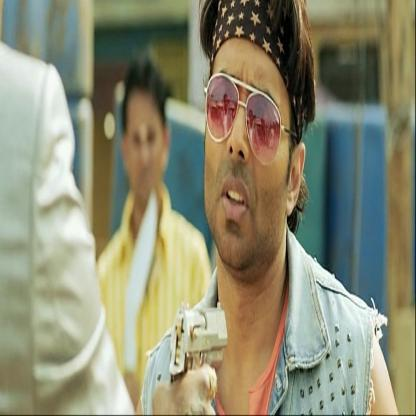gun: (154, 270, 240, 375)
